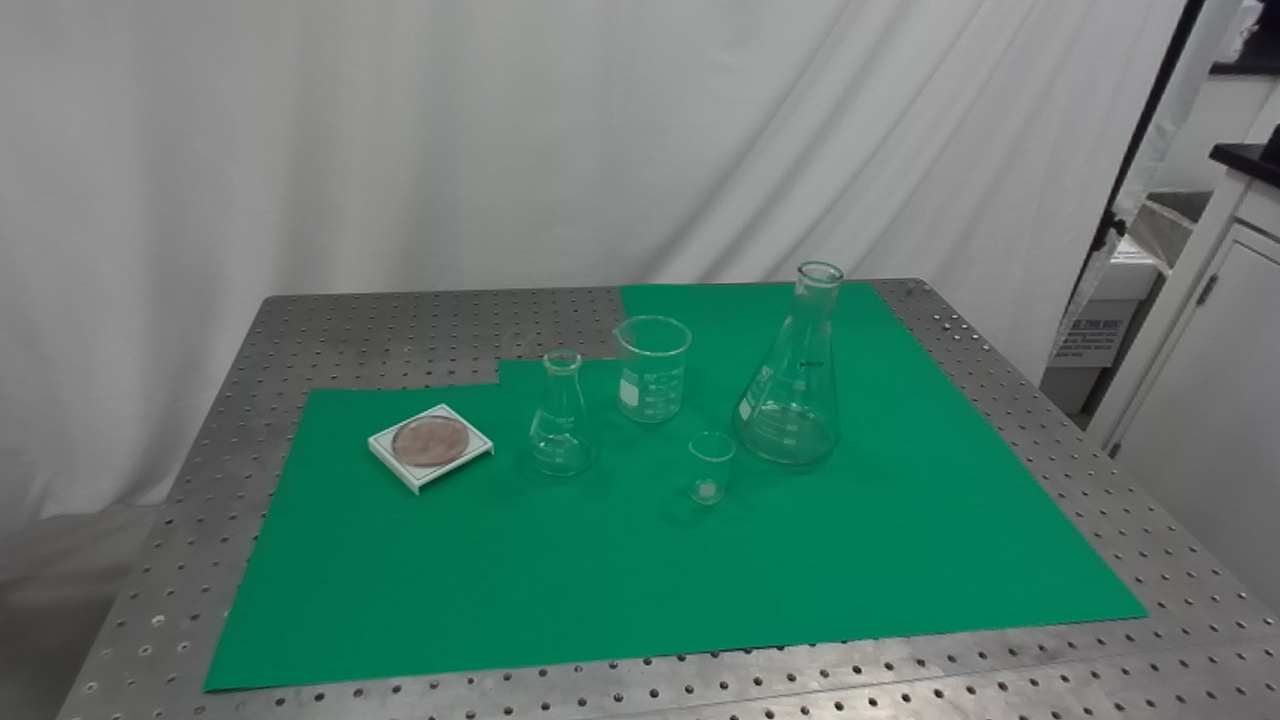glass: (729, 255, 846, 471), (521, 346, 602, 484), (608, 310, 694, 429), (686, 428, 737, 511)
plate: (364, 399, 498, 497)
